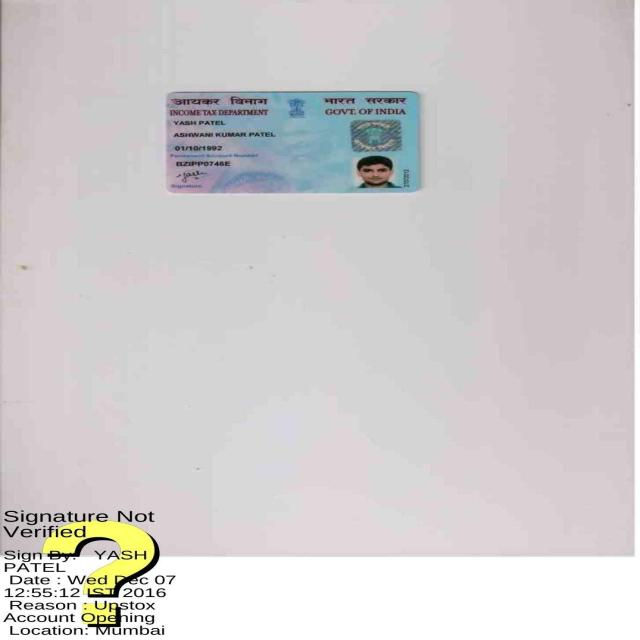pan_card: (165, 91, 418, 194)
